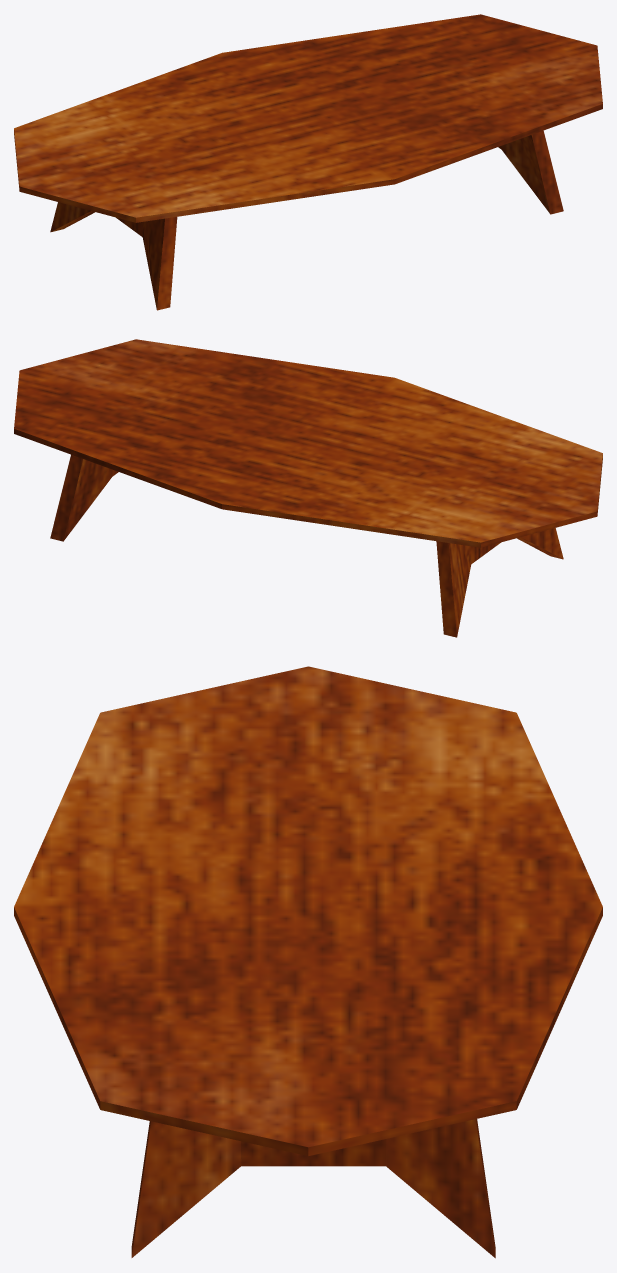
The model's file is conference_desk_alt.fbx.
3 views of the same model, one above another, from view 1: azimuth 30°, elevation 25°; view 2: azimuth 150°, elevation 25°; view 3: azimuth 270°, elevation 25° (orthographic). The views are drawn at different scales.
Parts seen in each view (by area): view 1: conference_desk_alt; view 2: conference_desk_alt; view 3: conference_desk_alt.
Boxes of the visible parts, x1=… form: conference_desk_alt: x1=14, y1=14, x2=602, y2=310; conference_desk_alt: x1=14, y1=339, x2=602, y2=637; conference_desk_alt: x1=14, y1=666, x2=602, y2=1258.
Size of the model in its own units: 497 by 87.97 by 257.
